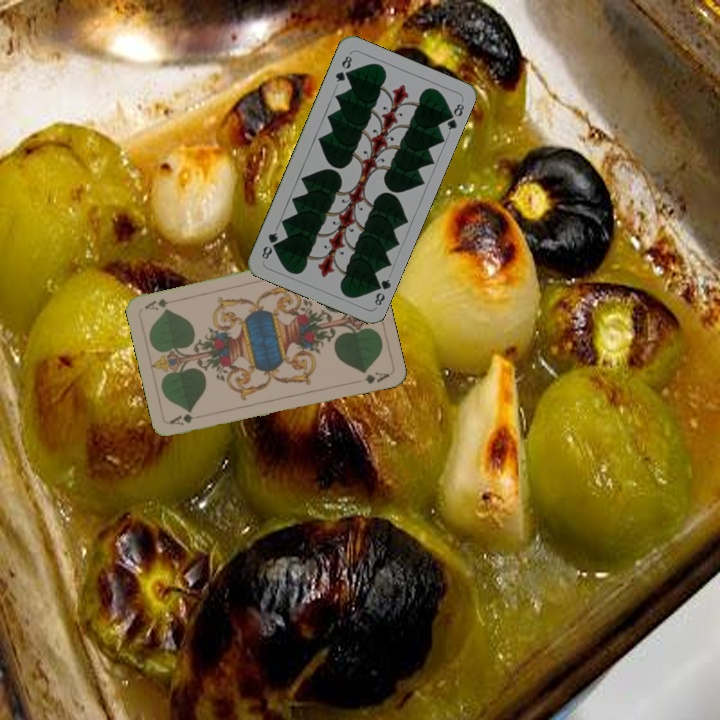G8: (331, 51, 355, 85), (369, 275, 393, 308)
GA: (166, 410, 207, 428)
